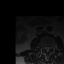CCS_normal: (46, 44, 48, 54)
LFS_stenosis: (50, 45, 52, 50)
LLS_normal: (48, 45, 50, 51)
RFS_stenosis: (43, 45, 45, 50)
RLS_normal: (45, 45, 46, 51)
